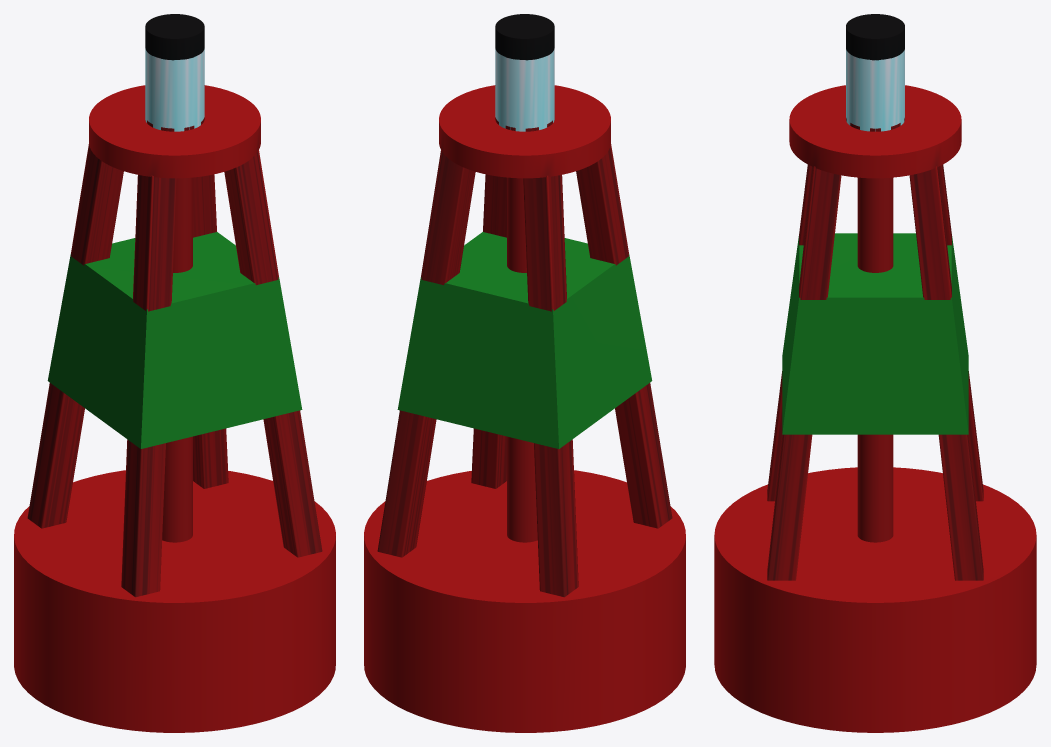
3 renders of one model, left to right at view 1: azimuth 30°, elevation 25°; view 2: azimuth 150°, elevation 25°; view 3: azimuth 270°, elevation 25°, orthographic.
Parts seen in each view (by area): view 1: foundation, collar, plate, sloped_support.001, sloped_support, sloped_support.003, post, pin, sloped_support.002, cap; view 2: foundation, collar, plate, sloped_support.003, sloped_support.002, sloped_support.001, post, pin, sloped_support, cap; view 3: foundation, collar, plate, sloped_support, sloped_support.002, post, pin, cap, sloped_support.001, sloped_support.003.
Part boxes in pixels (x1,y1,x2,y2): foundation: [14, 470, 335, 732]; collar: [47, 232, 302, 448]; plate: [89, 85, 260, 178]; sloped_support.001: [121, 175, 176, 597]; sloped_support: [224, 150, 322, 557]; sloped_support.003: [27, 144, 123, 528]; post: [162, 177, 192, 542]; pin: [145, 48, 204, 131]; sloped_support.002: [193, 174, 228, 488]; cap: [145, 14, 204, 60]; foundation: [364, 470, 685, 732]; collar: [397, 232, 652, 448]; plate: [439, 85, 610, 178]; sloped_support.003: [523, 175, 578, 597]; sloped_support.002: [377, 150, 475, 557]; sloped_support.001: [576, 144, 672, 528]; post: [507, 177, 537, 542]; pin: [495, 48, 554, 131]; sloped_support: [471, 174, 506, 488]; cap: [495, 14, 554, 60]; foundation: [714, 467, 1036, 732]; collar: [782, 233, 968, 434]; plate: [789, 85, 961, 178]; sloped_support: [767, 166, 841, 580]; sloped_support.002: [909, 166, 983, 580]; post: [857, 177, 893, 542]; pin: [846, 49, 904, 131]; cap: [846, 14, 904, 60]; sloped_support.001: [767, 164, 812, 501]; sloped_support.003: [938, 164, 983, 501].
Bounding box in the file's own units: 1.37 × 3 × 1.37.
